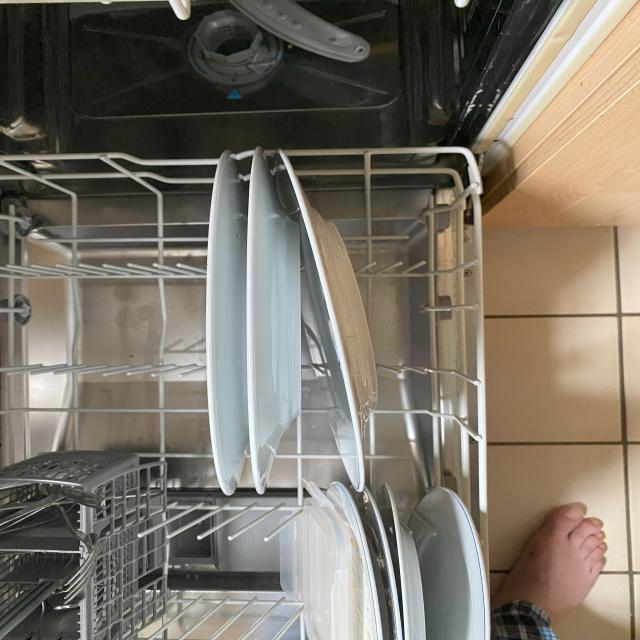clutery_bin: (10, 472, 114, 638)
empty_slot: (5, 168, 176, 442), (147, 496, 302, 640)
